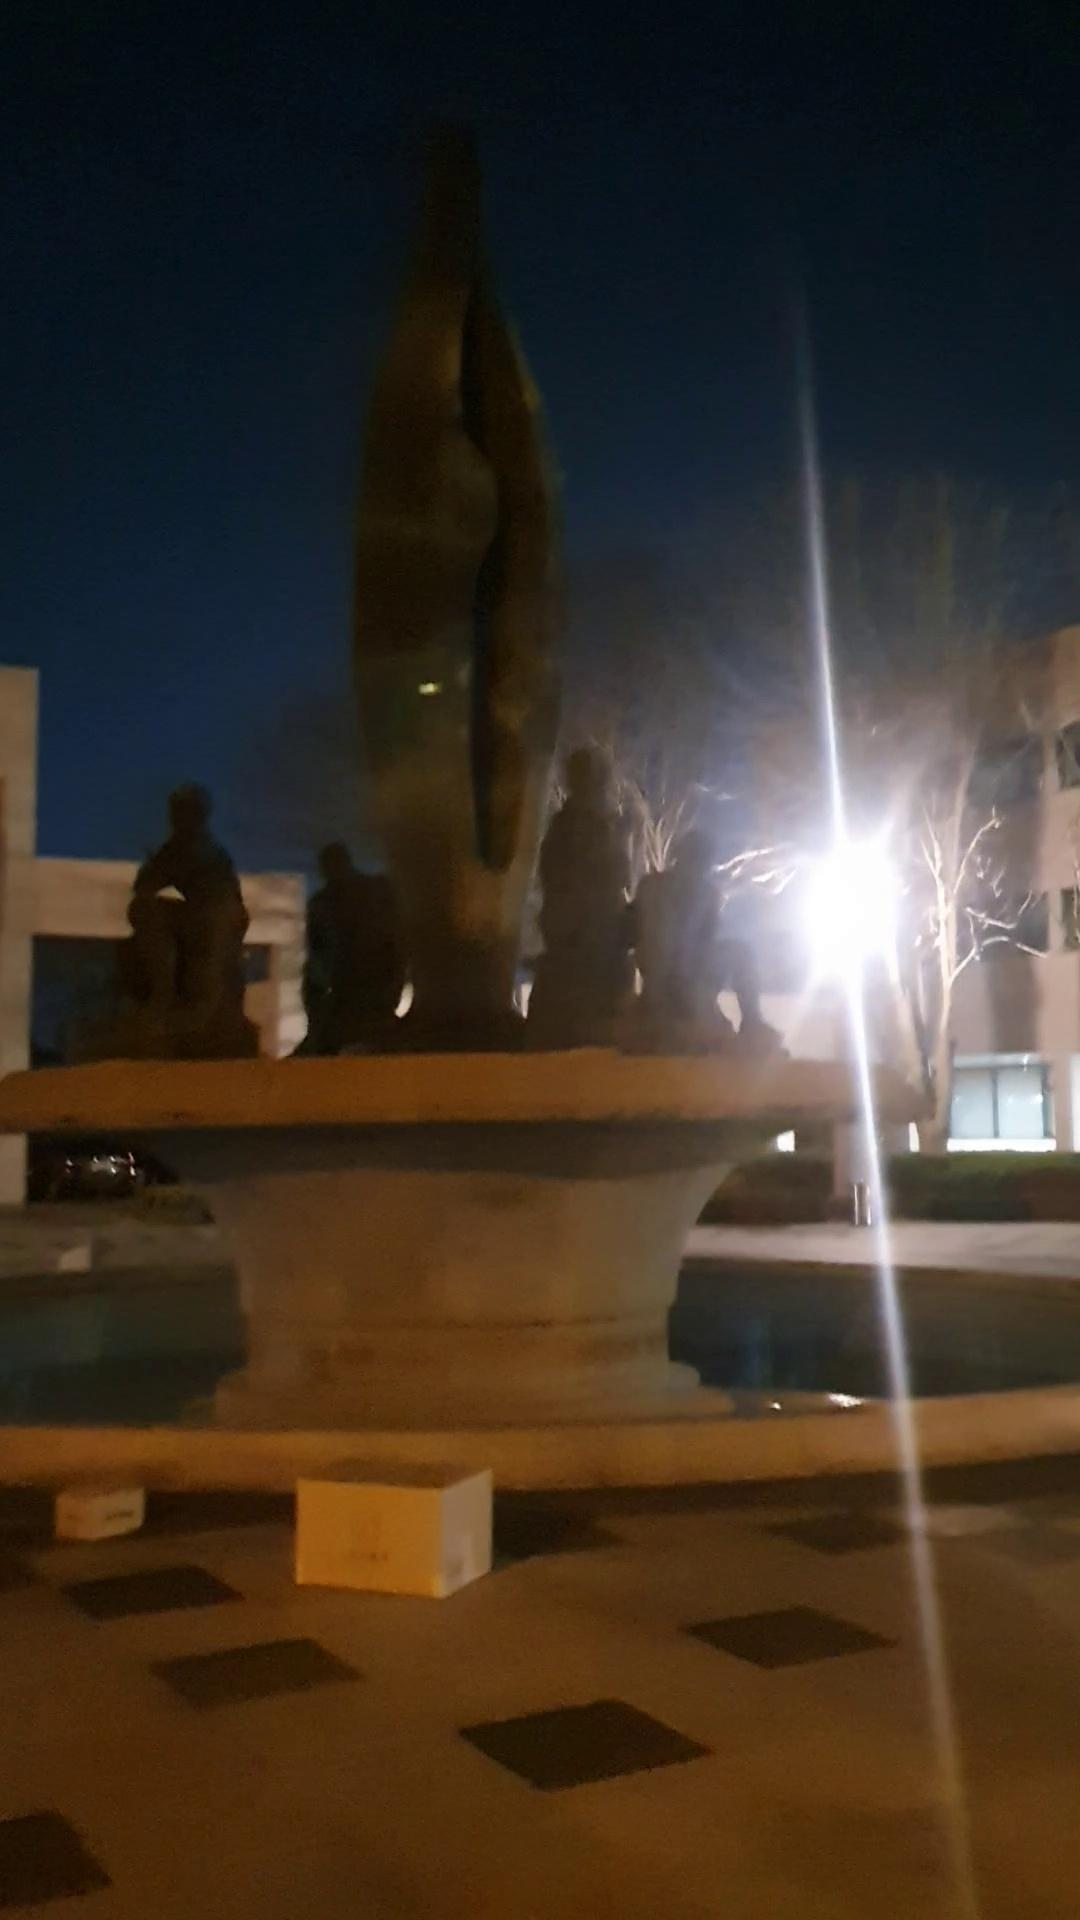Box: (284, 1445, 505, 1607), (47, 1453, 157, 1549)
